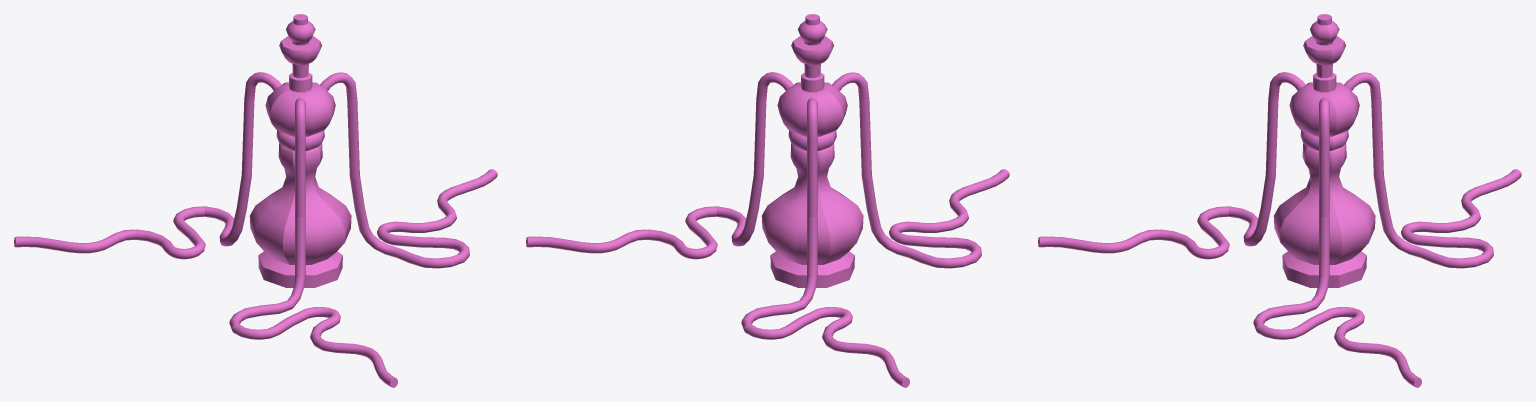
The model's file is SM_Magic_Bottle_1.fbx.
3 renders of one model, left to right at view 1: azimuth 30°, elevation 25°; view 2: azimuth 150°, elevation 25°; view 3: azimuth 270°, elevation 25°, orthographic.
Visible parts, largest first — view 1: SM_Magic_Bottle_1; view 2: SM_Magic_Bottle_1; view 3: SM_Magic_Bottle_1.
Boxes of the visible parts, x1,y1,x2,y2 form: SM_Magic_Bottle_1: (14,14,497,387); SM_Magic_Bottle_1: (526,14,1009,387); SM_Magic_Bottle_1: (1038,14,1521,387).
Size of the model in its own units: 1.52 by 0.8534 by 1.47.
